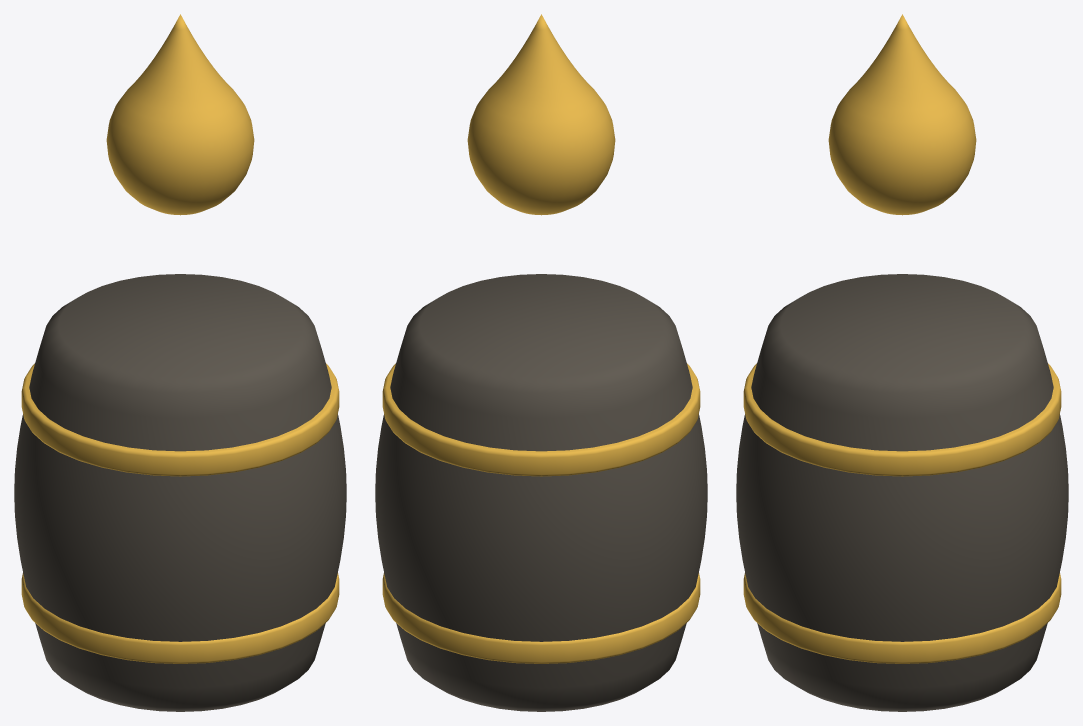
Rendered from petroleo.glb.
3 views of the same model, side by side, from view 1: azimuth 30°, elevation 25°; view 2: azimuth 150°, elevation 25°; view 3: azimuth 270°, elevation 25° (orthographic).
Parts seen in each view (by area): view 1: Barril, Gota; view 2: Barril, Gota; view 3: Barril, Gota.
Boxes of the visible parts, x1,y1,x2,y2 form: Barril: [14, 274, 346, 711]; Gota: [106, 14, 254, 215]; Barril: [375, 274, 707, 711]; Gota: [467, 14, 615, 215]; Barril: [736, 274, 1068, 711]; Gota: [828, 14, 976, 215].
Bounding box in the file's own units: 0.4663 × 1 × 0.4663.
